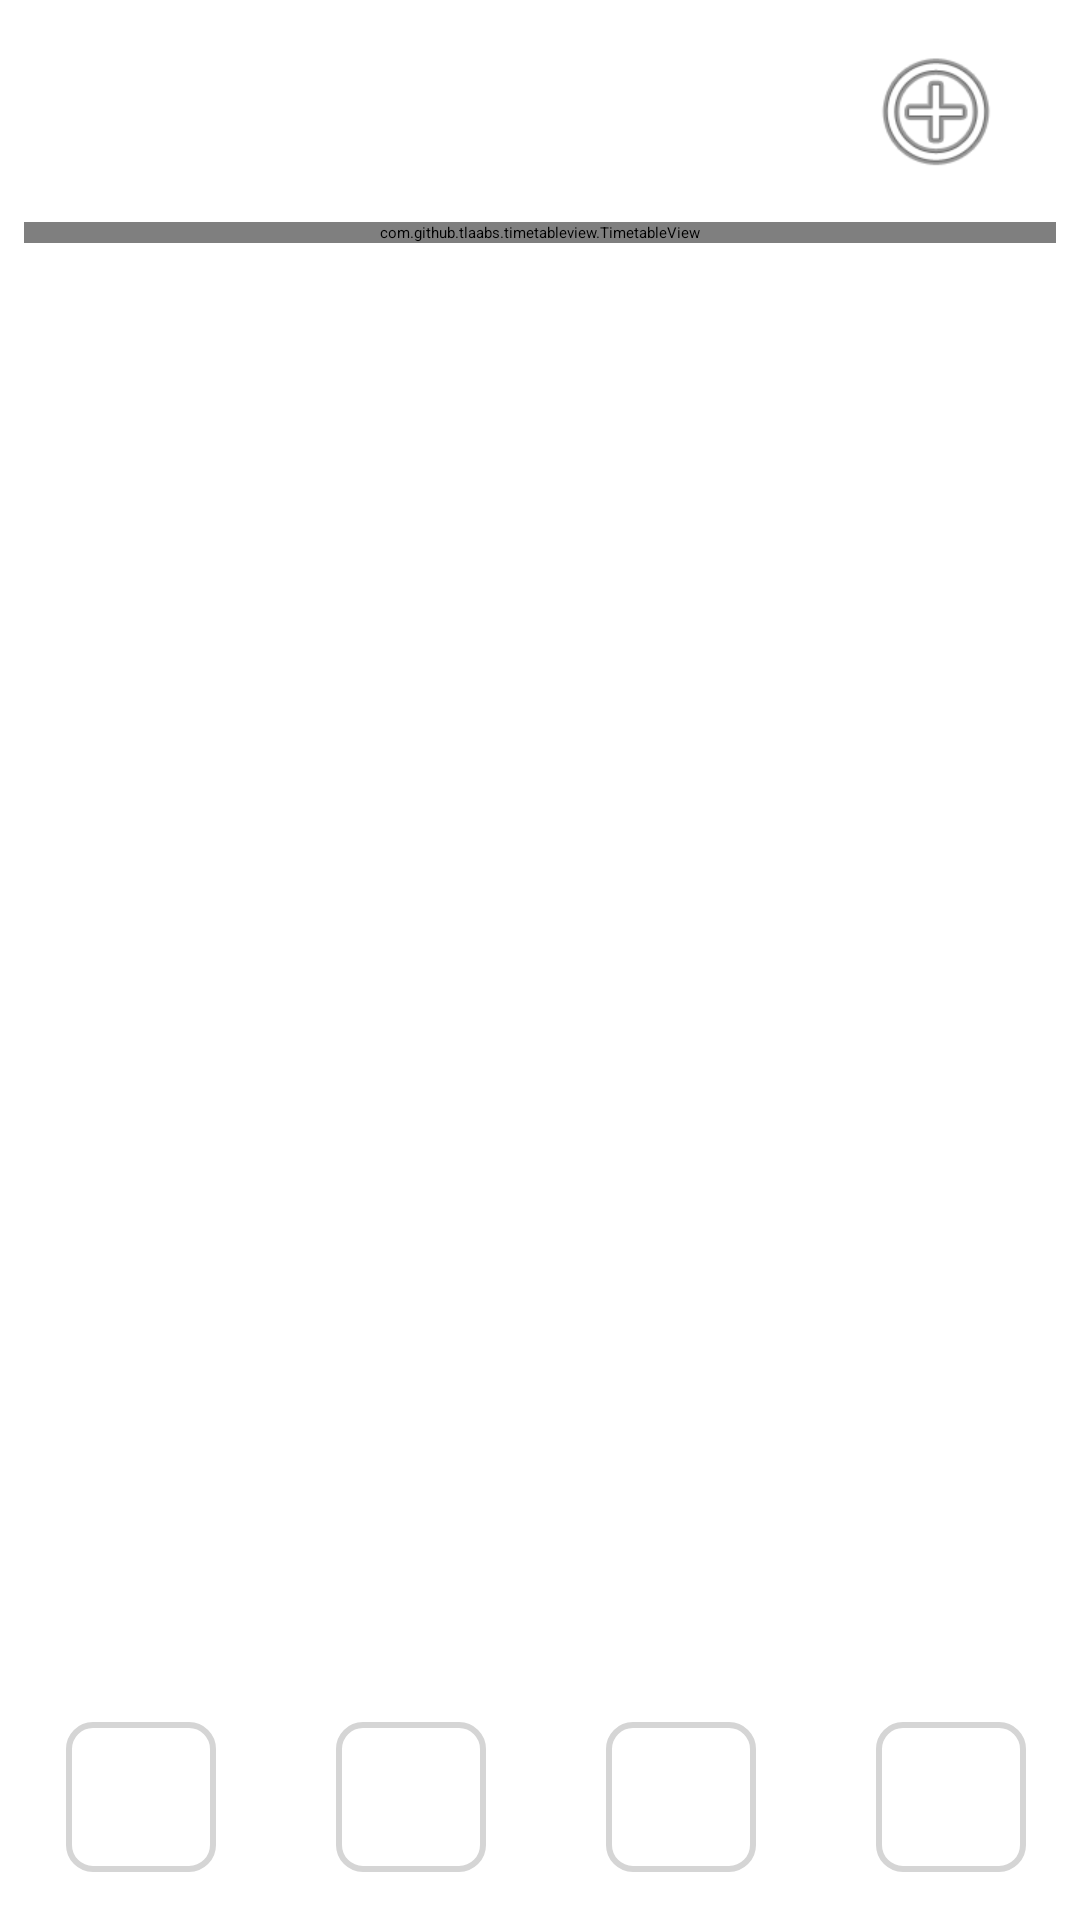

Icon bounding boxes for this 1080w x 1920h phone screenshot, format (x1, y1, x2, y2):
add: (882, 58, 990, 165)
